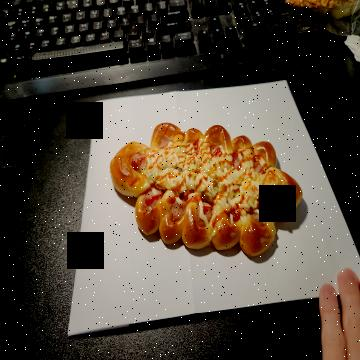pizza_bread: (109, 122, 301, 261)
